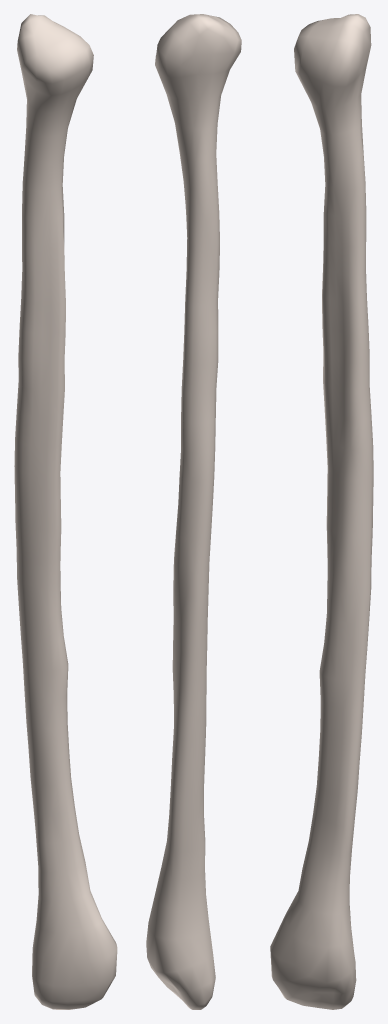
File: frau2-1015.glb
The picture shows the model from 3 angles, left to right: view 1: azimuth 90°, elevation 25°; view 2: azimuth 210°, elevation 25°; view 3: azimuth 270°, elevation 25°; orthographic projection.
Visible parts, largest first — view 1: VH_F_fibula_R; view 2: VH_F_fibula_R; view 3: VH_F_fibula_R.
Part boxes in pixels (<box>): VH_F_fibula_R: <box>14,14,117,1009</box>; VH_F_fibula_R: <box>146,14,241,1009</box>; VH_F_fibula_R: <box>270,14,373,1009</box>.
Size of the model in its own units: 0.0283 by 0.3372 by 0.0318.
